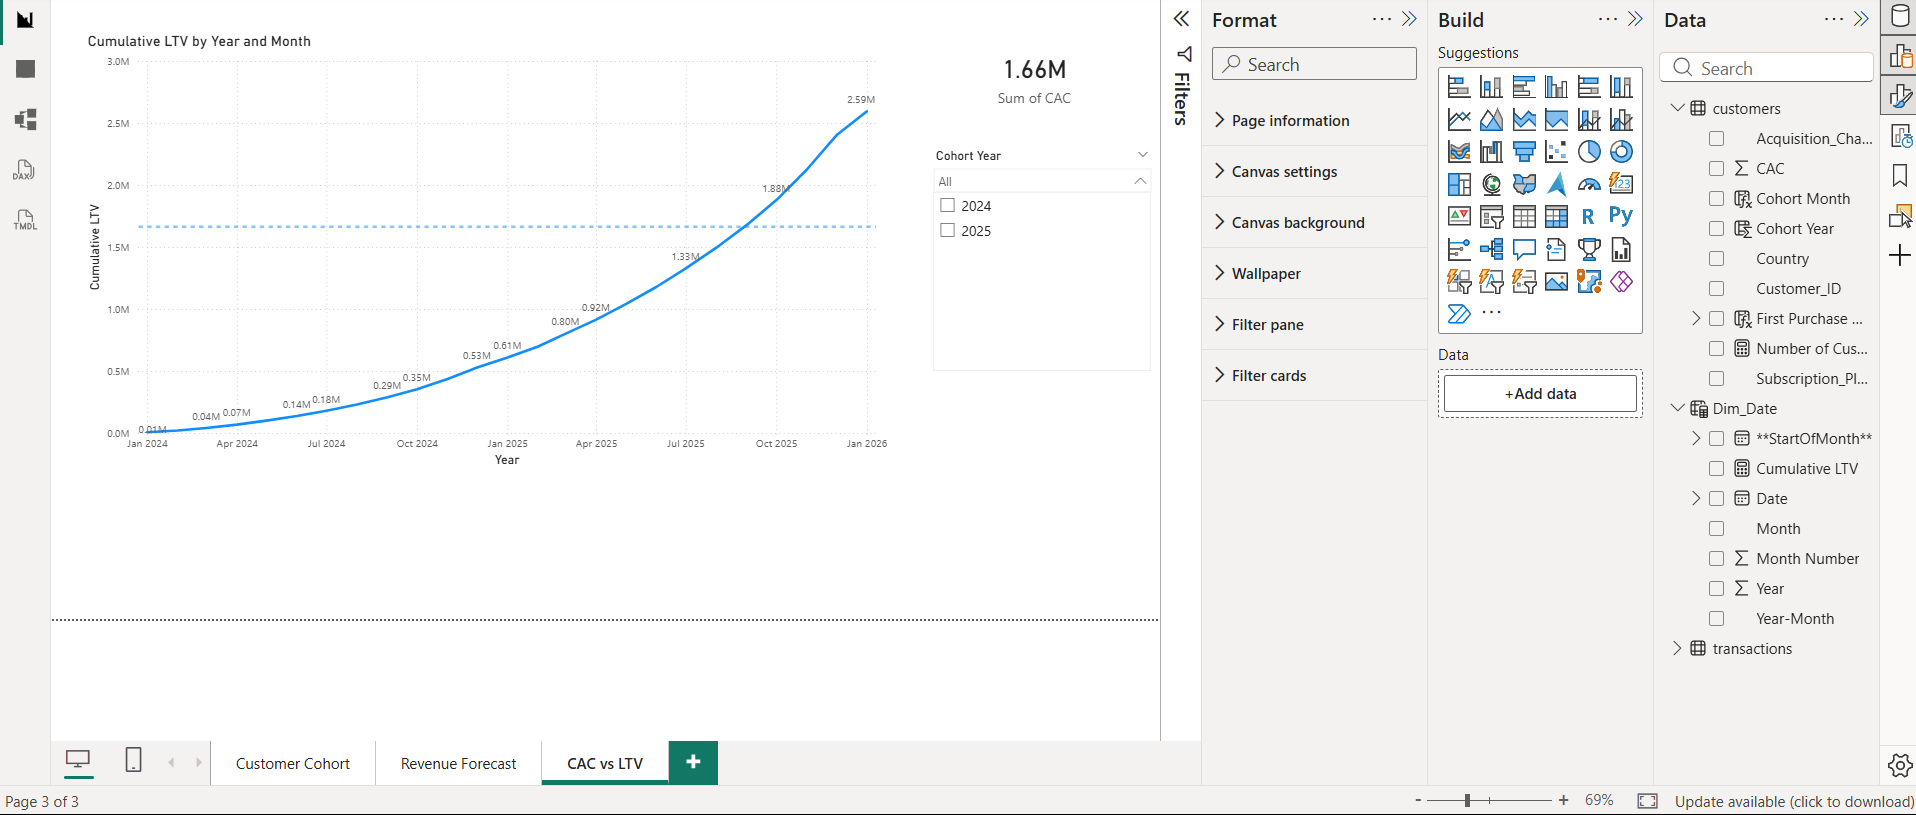

What the dashboard file says about the page in this screenshot:
{"tool":"powerbi","page":{"name":"CAC vs LTV","canvas":[1280,720],"ordinal":2},"visuals":[{"type":"lineChart","fields":{"Y":["Dim_Date.Cumulative LTV"],"Category":["Dim_Date.Date.Variation.Date Hierarchy.Year","Dim_Date.Date.Variation.Date Hierarchy.Month"]},"box":[37.5,43.3,933.5,506.4],"z":0},{"type":"card","fields":{"Values":["Sum(customers.CAC)"]},"box":[1008.8,17.1,253.1,154.1],"z":2},{"type":"slicer","fields":{"Values":["customers.Cohort Year"]},"box":[1008.5,171.7,271.2,66.4],"z":3}]}

Visuals, with their boxes on the page's 1280x720 design canvas (x1, y1, x2, y2). These are canvas units, not pixel positions in the 1916x815 screenshot, which may show the page scaled, cropped or inside an application window:
lineChart - Dim_Date.Cumulative LTV x Dim_Date.Date.Variation.Date Hierarchy.Year: (x1=38, y1=43, x2=971, y2=550)
card - Sum(customers.CAC): (x1=1009, y1=17, x2=1262, y2=171)
slicer - customers.Cohort Year: (x1=1008, y1=172, x2=1280, y2=238)
